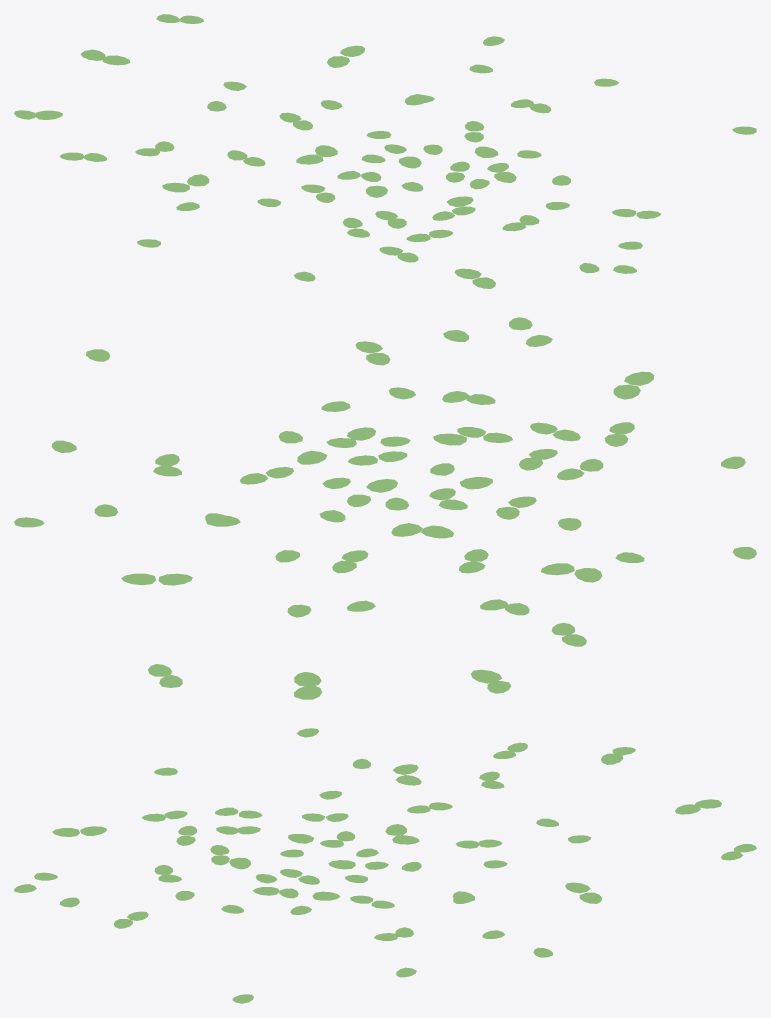
The picture shows the model from 3 angles, top to bottom: view 1: azimuth 30°, elevation 25°; view 2: azimuth 150°, elevation 25°; view 3: azimuth 270°, elevation 25°; orthographic projection. The views are drawn at different scales.
Visible parts, largest first — view 1: Duckweed.Shape; view 2: Duckweed.Shape; view 3: Duckweed.Shape.
Part boxes in pixels (bbox=[...]): Duckweed.Shape: bbox=[14, 14, 756, 288]; Duckweed.Shape: bbox=[14, 317, 756, 699]; Duckweed.Shape: bbox=[14, 728, 756, 1003].
Size of the model in its own units: 0.1932 by 4.86e-17 by 0.2201.
